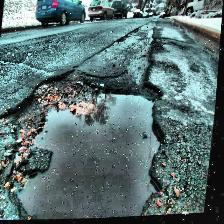pothole: (0, 67, 176, 223)
